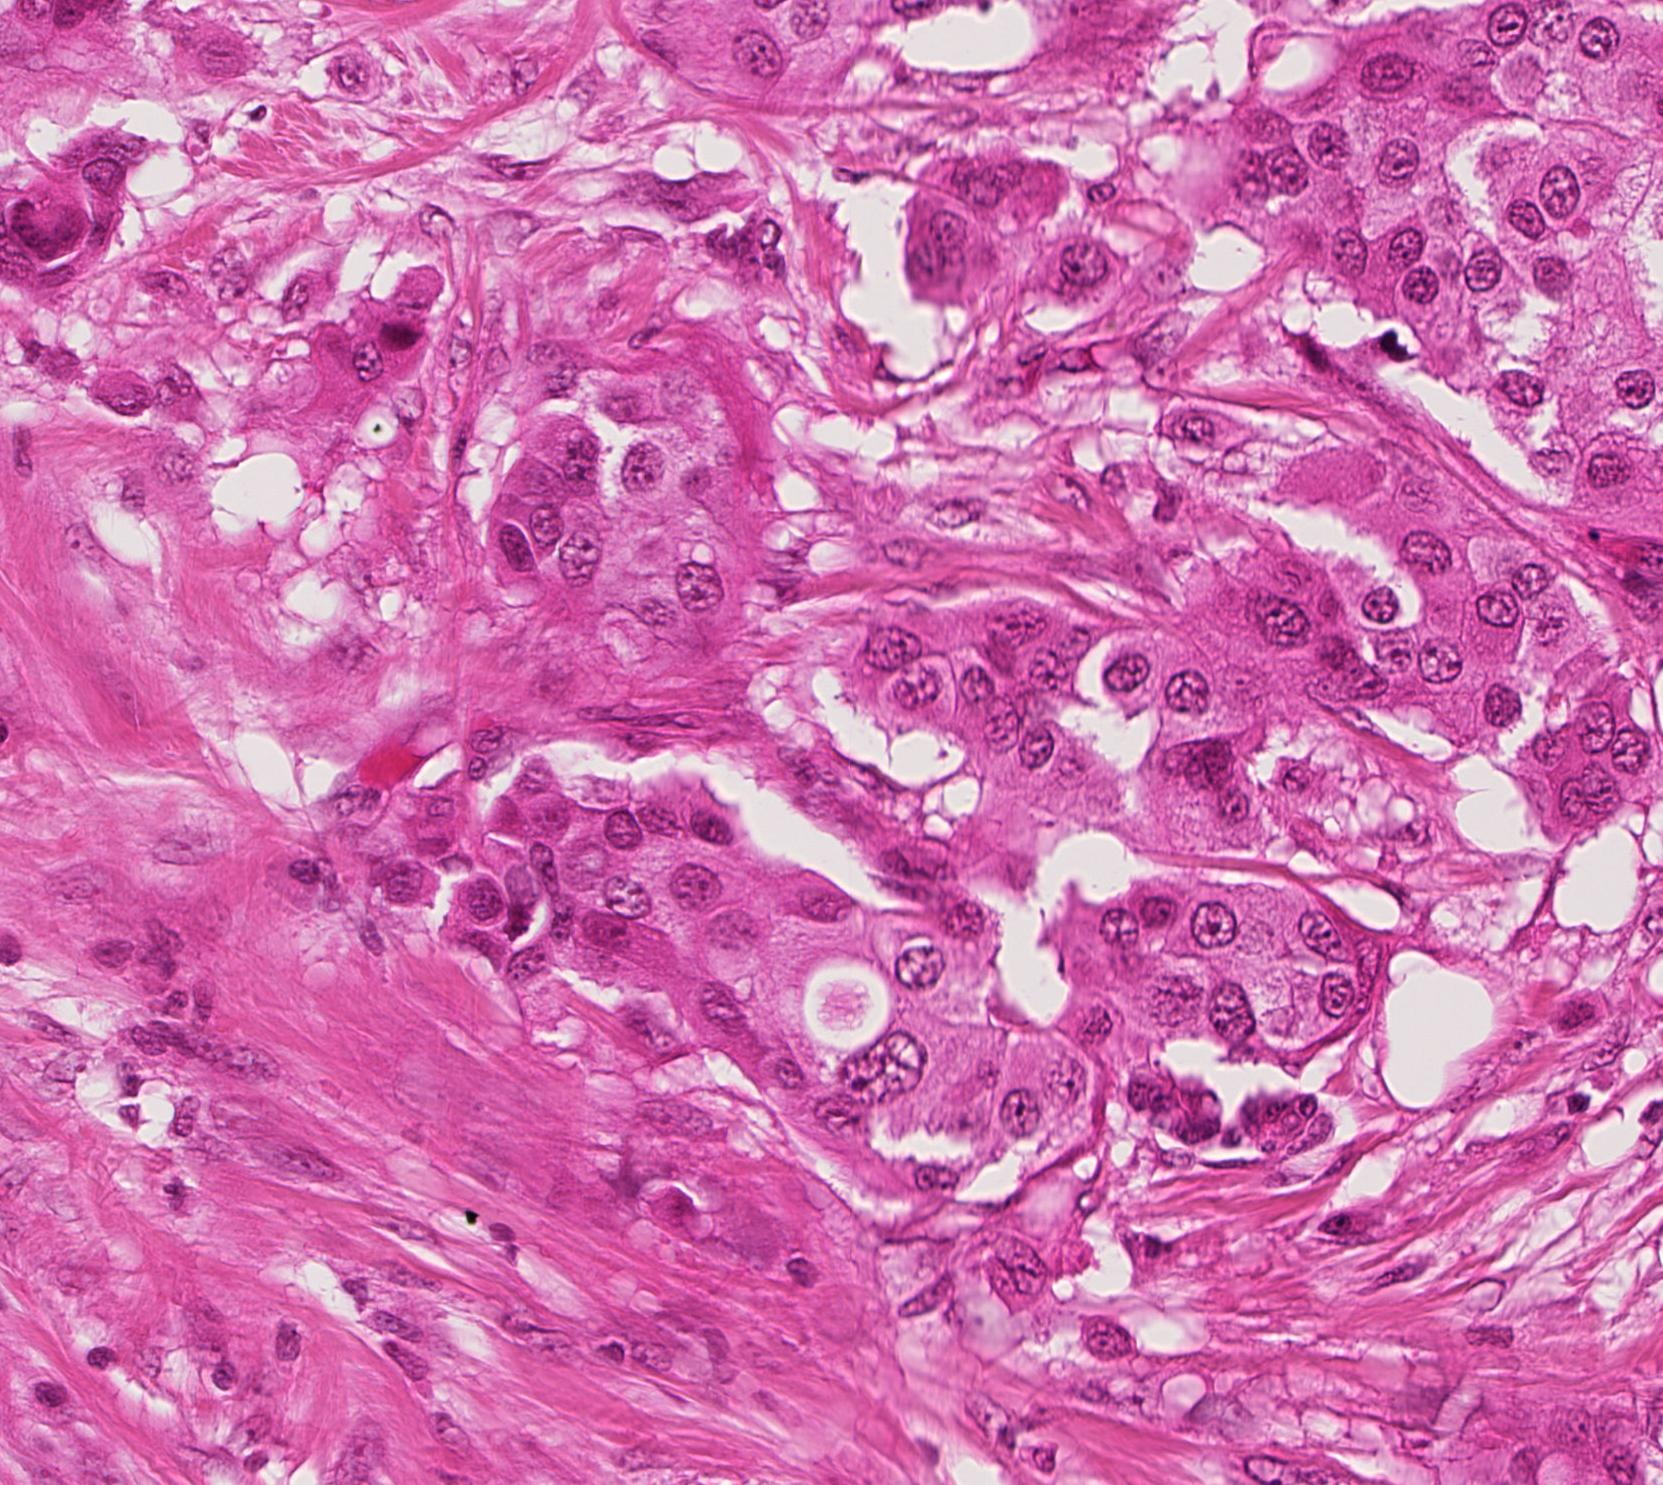mitosis: (371, 297, 432, 355)
